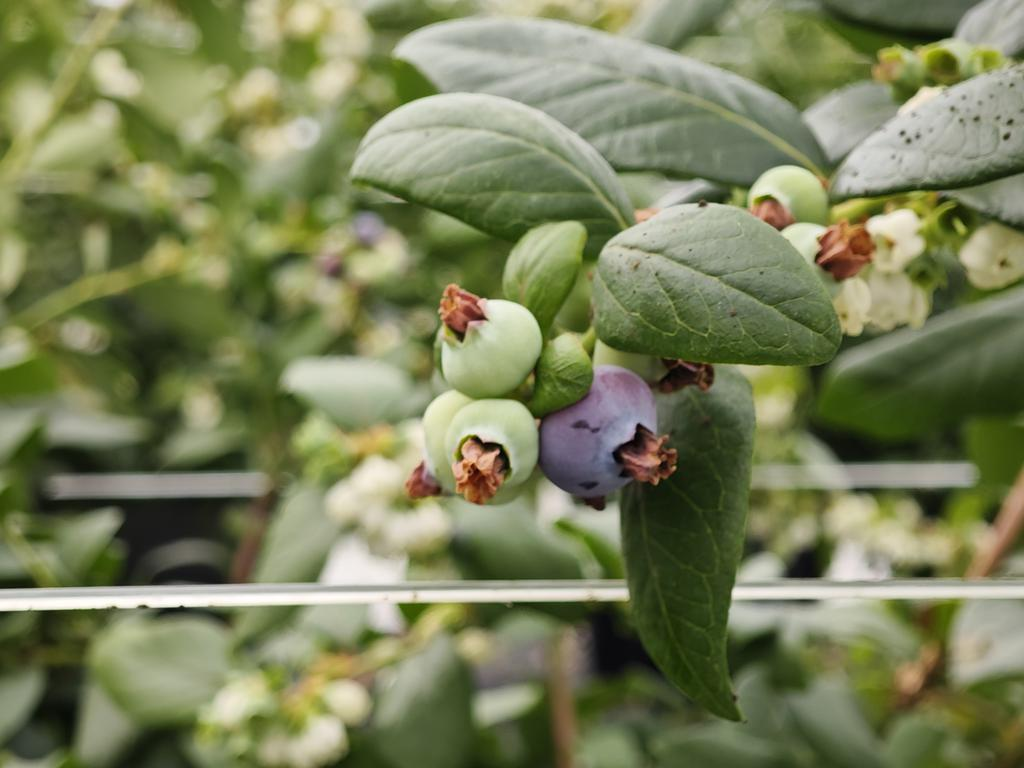RipeBlueBerry: (537, 364, 663, 501)
UnripeBlueBerry: (434, 287, 548, 398), (441, 397, 543, 497)
